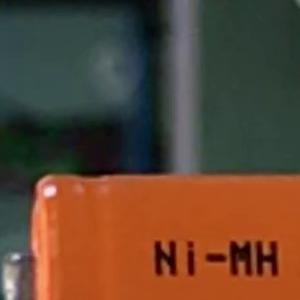keyword: (145, 231, 288, 285)
